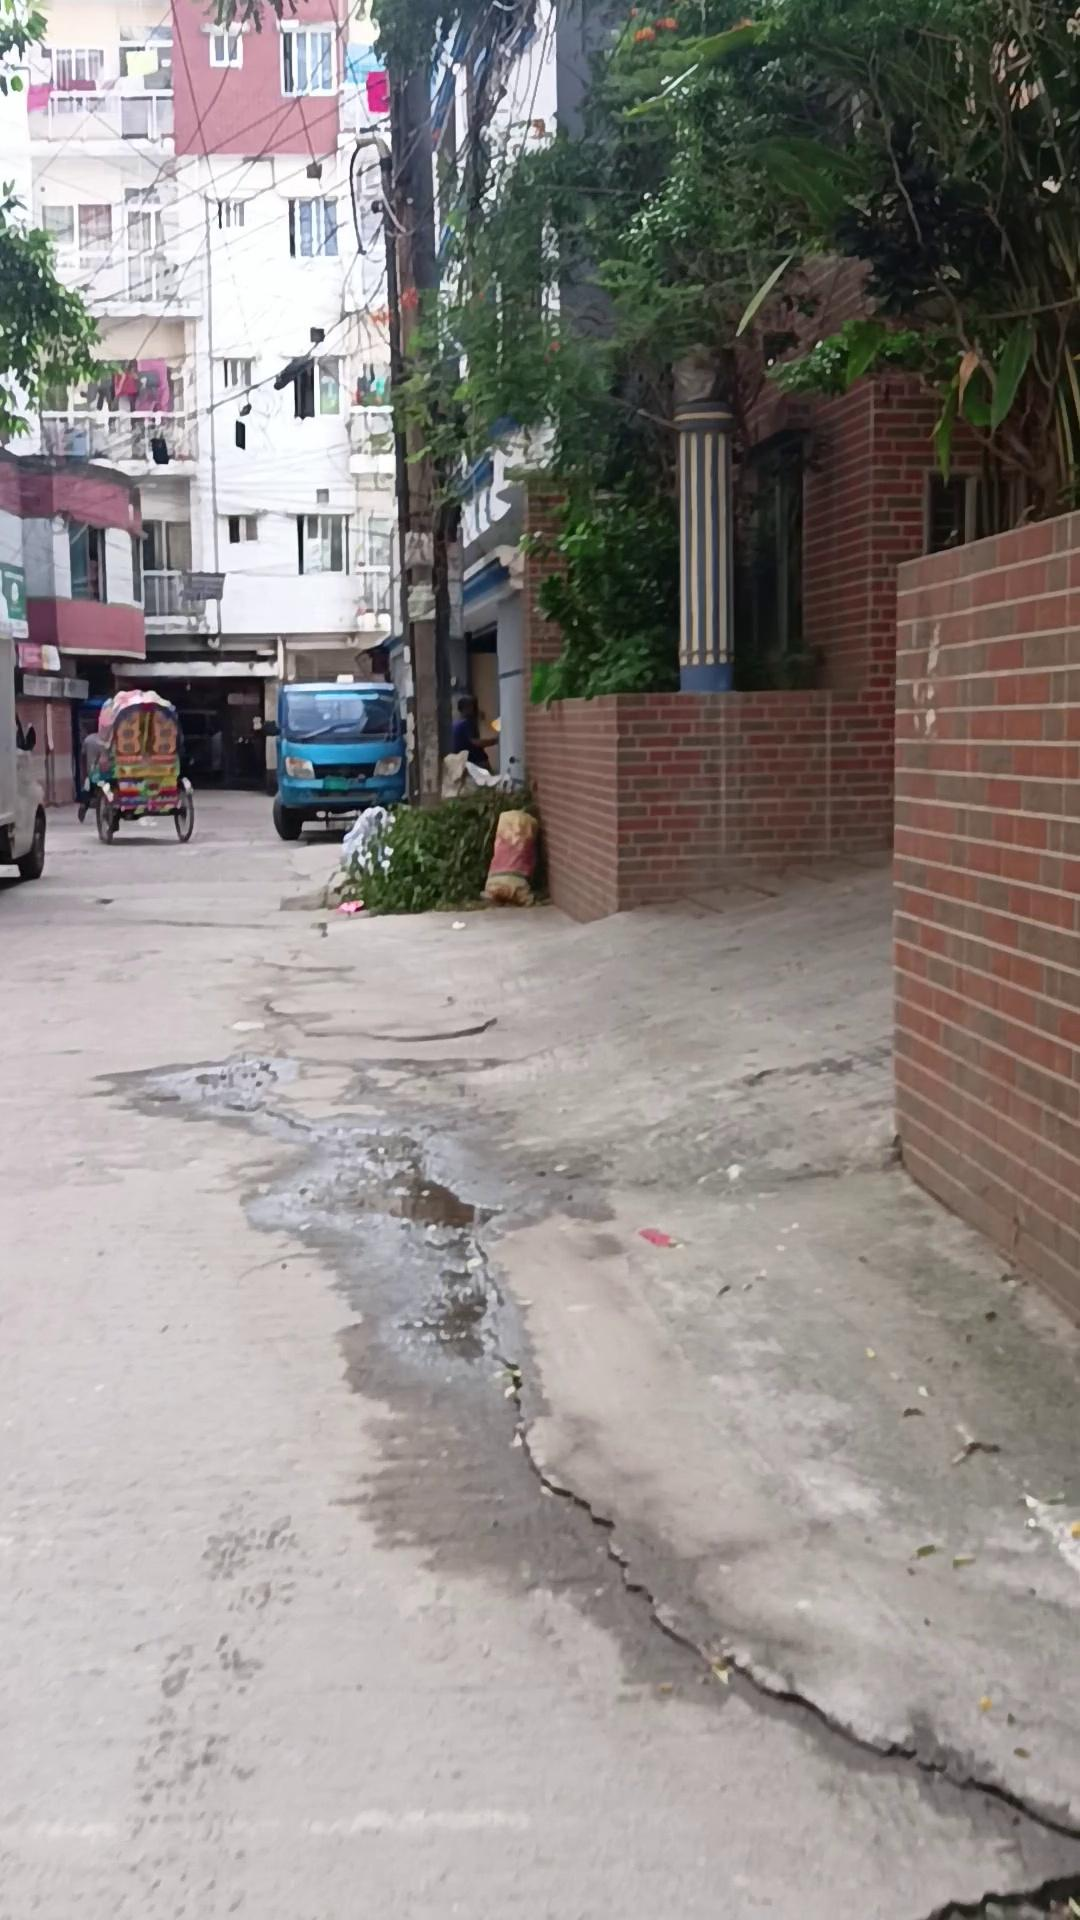Broken-road: (0, 783, 1080, 1920)
Muddy road: (76, 715, 113, 822), (448, 694, 495, 771)
Obstacle: (378, 26, 448, 808)
Pothole: (80, 688, 196, 845)
Traffic-sign: (268, 680, 407, 843)
